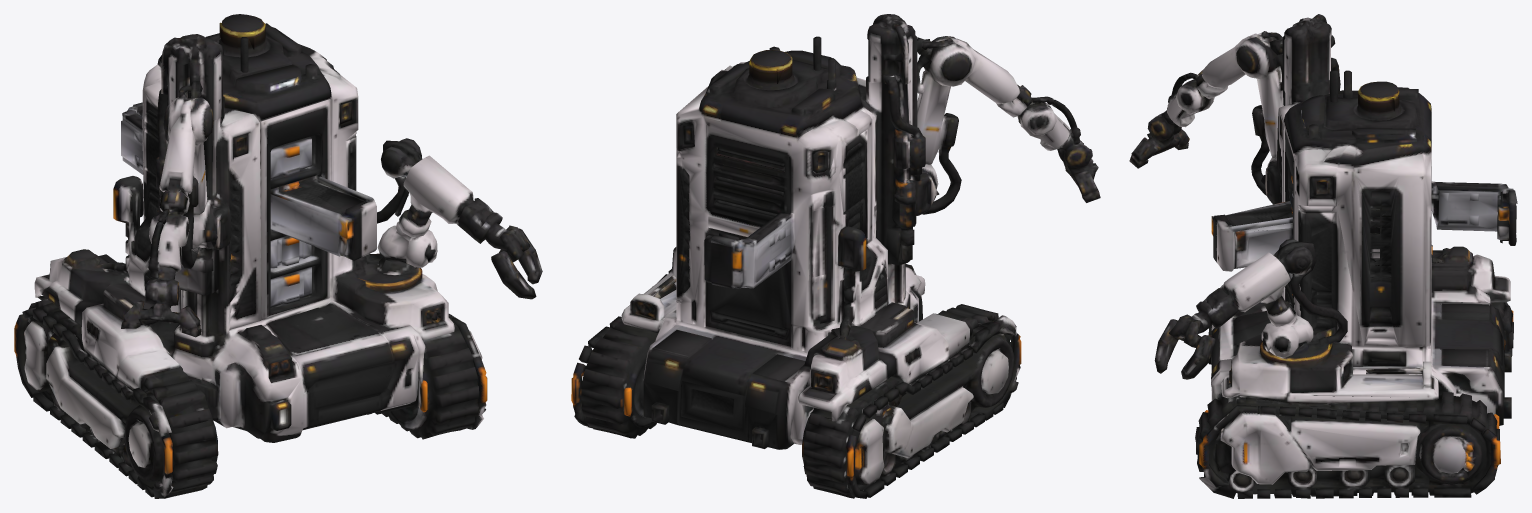
Rendered from tripo_convert_d37151a8-a715-47b6-aca4-54d6e73610a1.fbx.
3 renders of one model, left to right at view 1: azimuth 30°, elevation 25°; view 2: azimuth 150°, elevation 25°; view 3: azimuth 270°, elevation 25°, orthographic. The views are drawn at different scales.
Parts seen in each view (by area): view 1: tripo_node_d37151a8; view 2: tripo_node_d37151a8; view 3: tripo_node_d37151a8.
Boxes of the visible parts, box(x1,y1,x2,y2) form: tripo_node_d37151a8: box(14, 14, 542, 498); tripo_node_d37151a8: box(571, 14, 1100, 498); tripo_node_d37151a8: box(1129, 14, 1517, 498).
Bounding box in the file's own units: 0.9786 × 0.9173 × 0.8484.
Materials: 1 (1 with a texture image).
